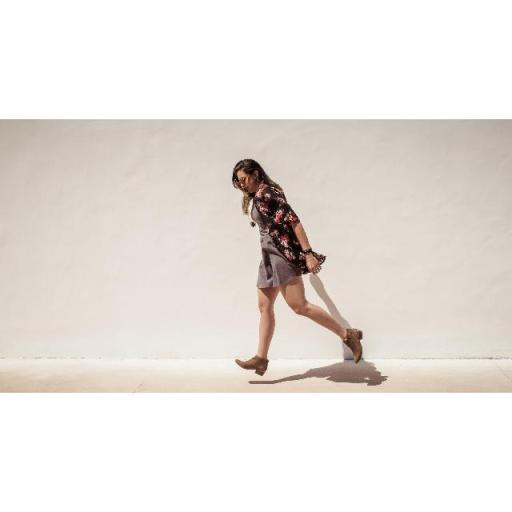Running: (218, 154, 366, 380)
